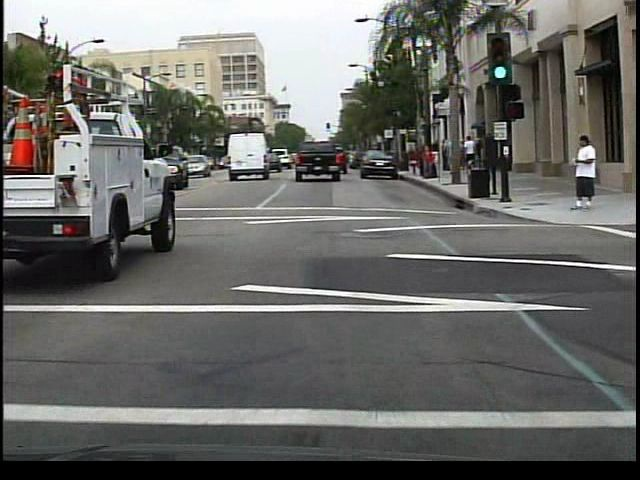person: (567, 136, 602, 216), (415, 142, 436, 181)
